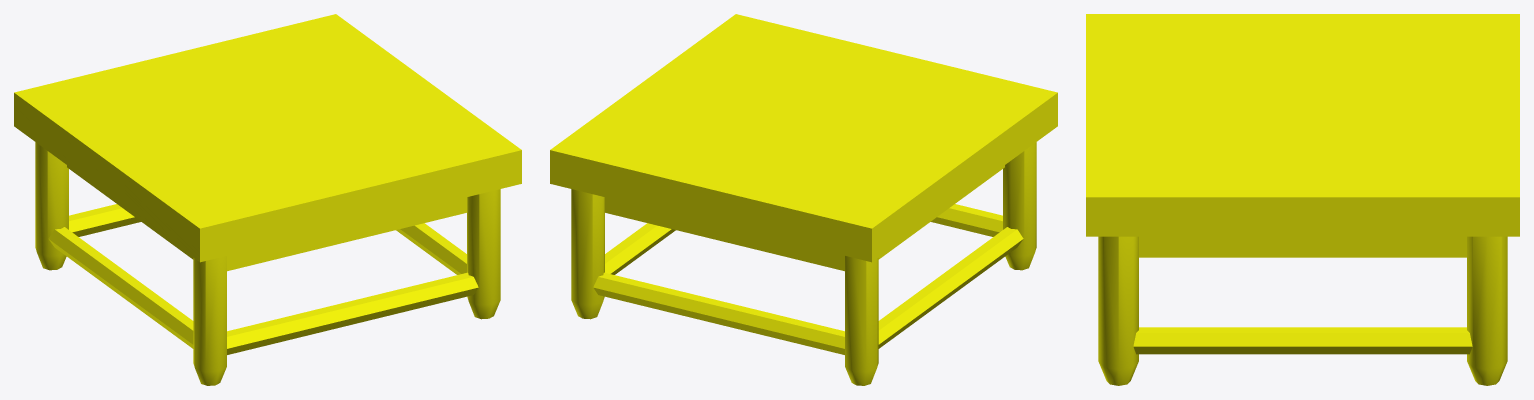
File: kitchentable_B.gltf
The picture shows the model from 3 angles, left to right: view 1: azimuth 30°, elevation 25°; view 2: azimuth 150°, elevation 25°; view 3: azimuth 270°, elevation 25°; orthographic projection. The views are drawn at different scales.
Visible parts, largest first — view 1: kitchentable_B; view 2: kitchentable_B; view 3: kitchentable_B.
Boxes of the visible parts, box(x1,y1,x2,y2) form: kitchentable_B: box(14, 14, 521, 385); kitchentable_B: box(550, 14, 1057, 385); kitchentable_B: box(1086, 14, 1519, 385).
Size of the model in its own units: 2 by 1 by 2.
Materials: 1 (1 with a texture image).
